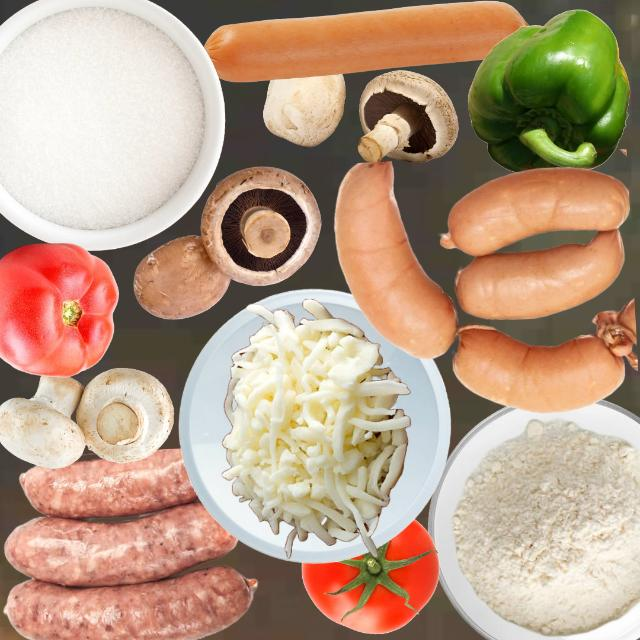Flour: (452, 417, 639, 635)
Sugar: (0, 5, 205, 229)
